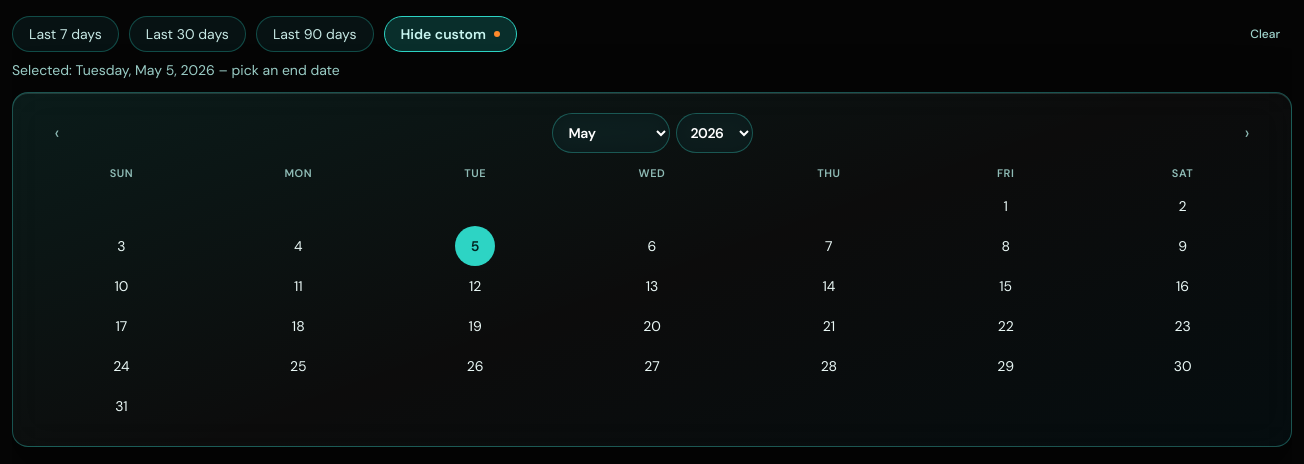
Test: DateRangeSelector › month and year selects jump the displayed month
The width and height of the screenshot is (1304, 464).
Expected: the element named "May 2026 days" is shown, [33,186,1271,426]
Select "2023" in the dropdown named "Year". click: (714, 133)
box: [676,113,752,153]
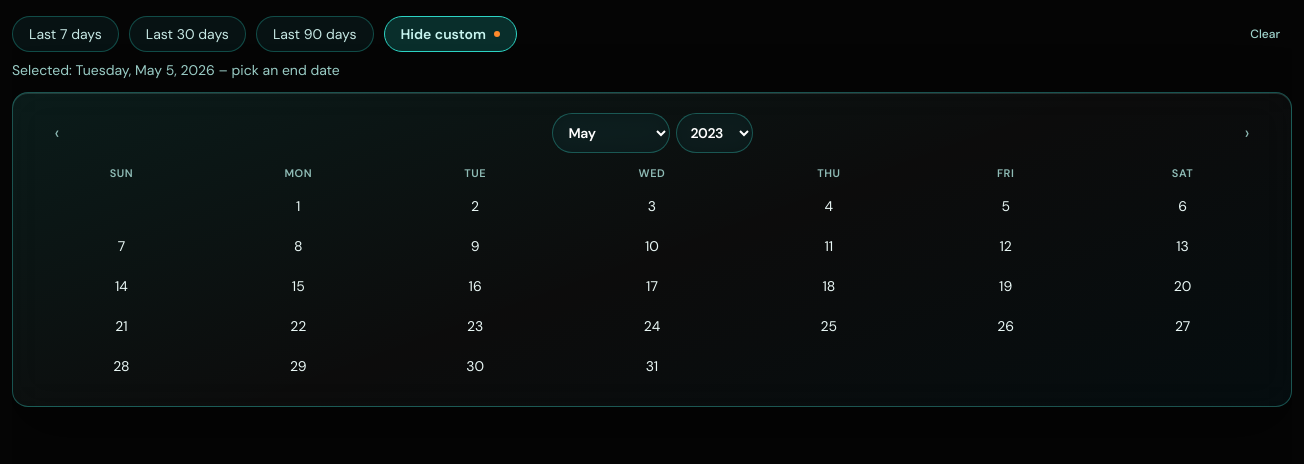
Expected: the element named "May 2023 days" is shown, [33,186,1271,386]
Select "January" in the dropdown named "Month". click: (610, 133)
box: [552,113,670,153]
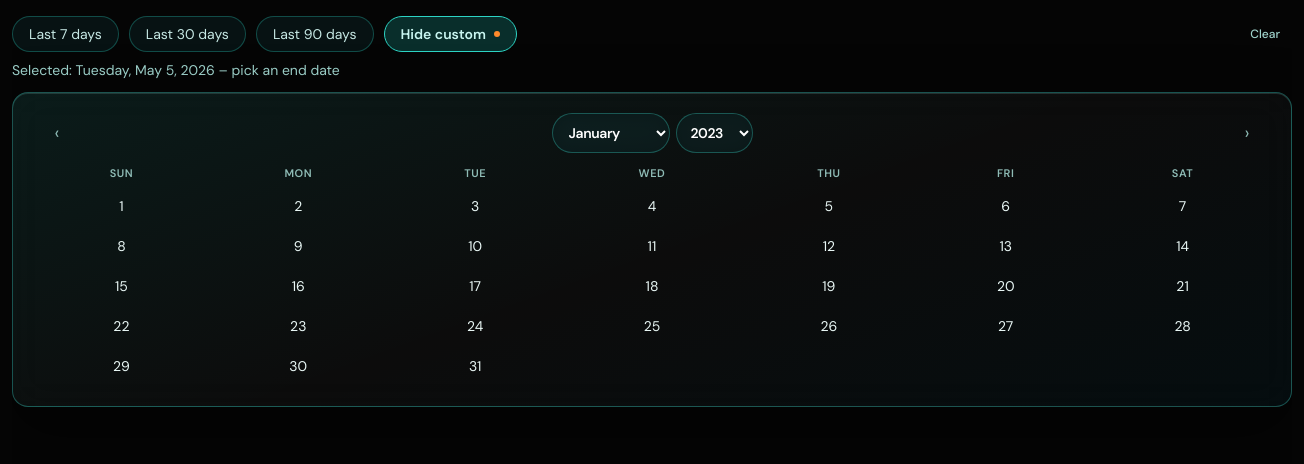
Expected: the element named "January 2023 days" is shown, [33,186,1271,386]
Expected: the button named "January 1, 2023" is shown, [101,186,141,226]
